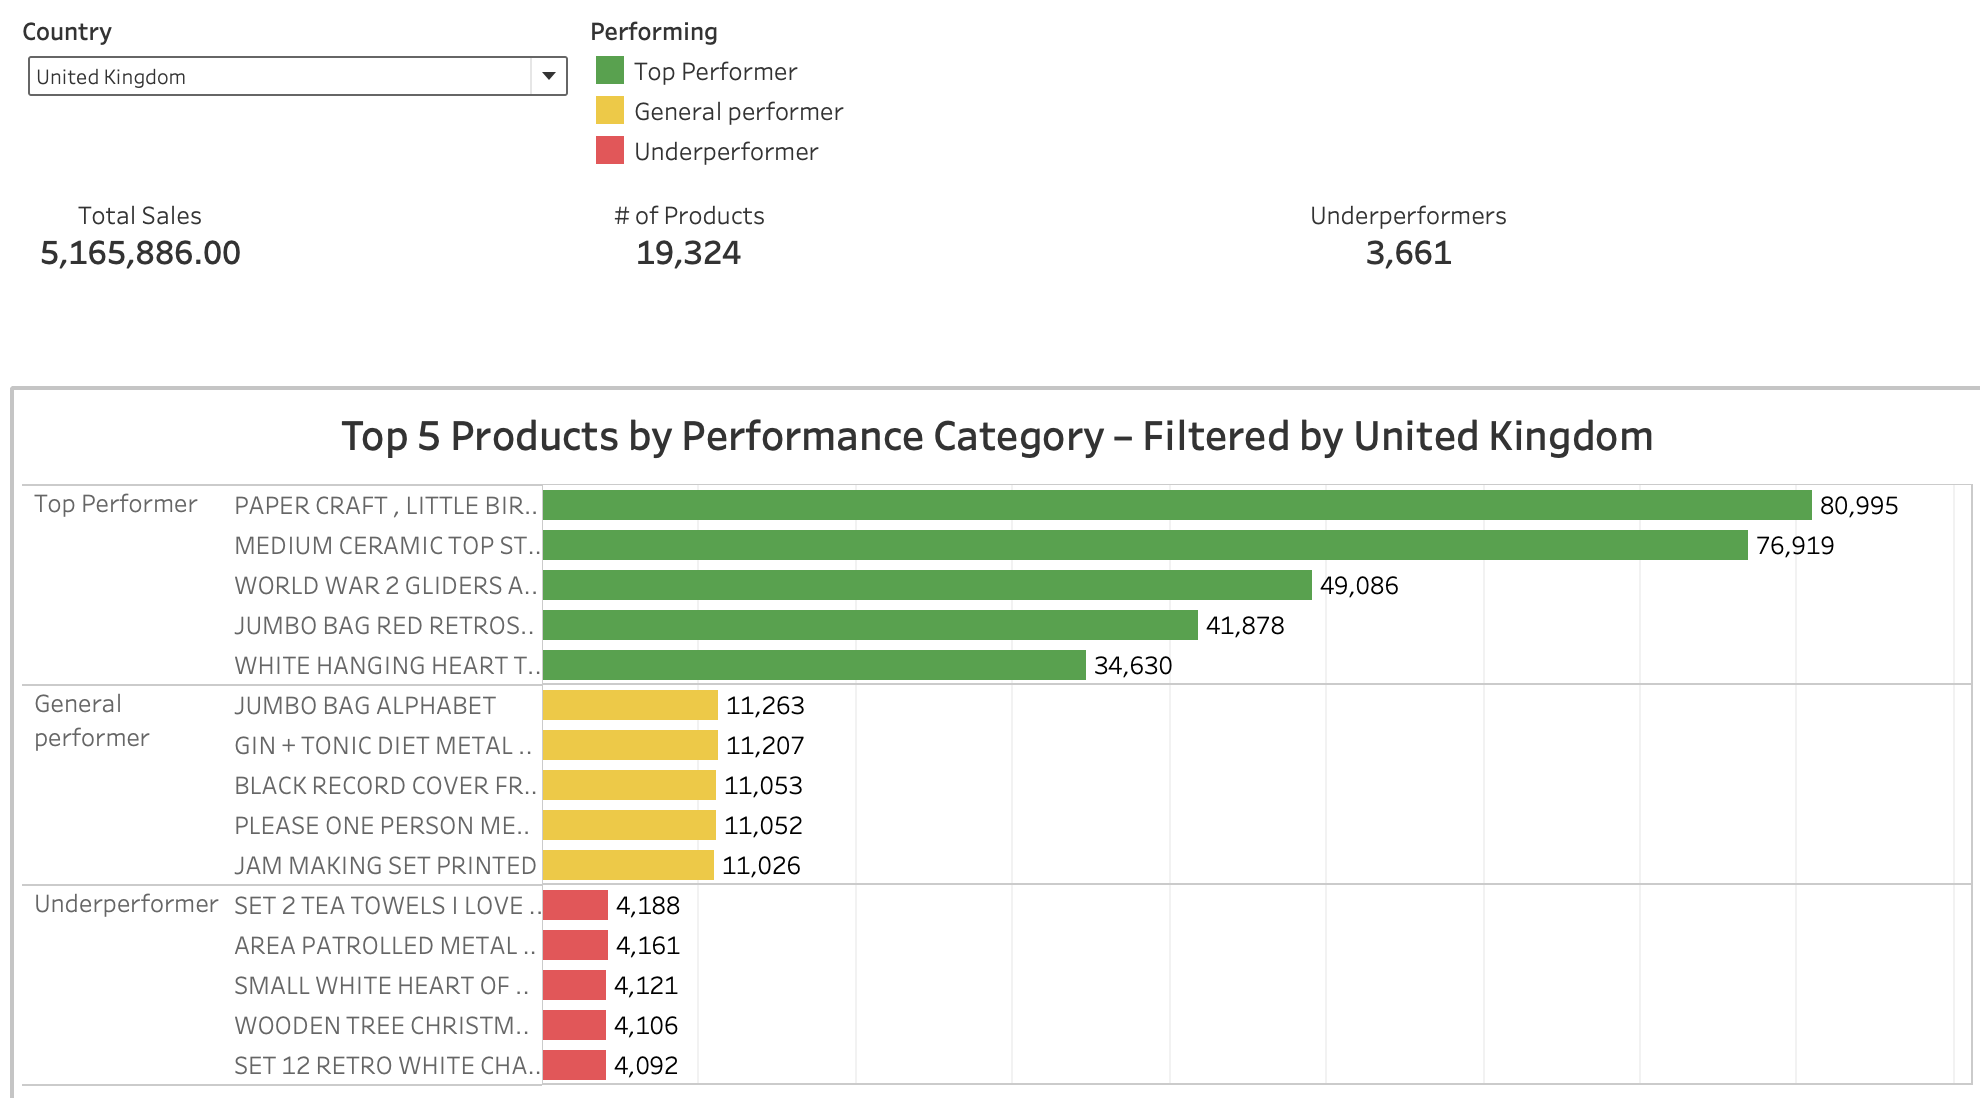

The page's visual inventory and layout, read from the dashboard file:
{"tool":"tableau","page":{"name":"Dashboard 1","canvas":[1000,800],"ordinal":0},"visuals":[{"type":"filter","title":"Top performer","param":"[federated.1g3ey7x0q8dh7b16m36991vpmqvr].[none:Country:nk]","box":[8,8,284,56]},{"type":"legend","title":"Top performer","param":"[federated.1g3ey7x0q8dh7b16m36991vpmqvr].[none:Performing:nk]","box":[292,8,700,92]},{"type":"worksheet","title":"KPI - Total Sales","mark":"Automatic","box":[8,100,284,100]},{"type":"worksheet","title":"KPI - # Products","mark":"Automatic","box":[292,100,350,100]},{"type":"worksheet","title":"KPI - Underperformers","mark":"Automatic","box":[642,100,350,100]},{"type":"worksheet","title":"Top performer","mark":"Bar","rows":["Performing","Description"],"cols":["Quantity"],"box":[8,200,984,592]}]}

Visuals, with their boxes on the page's 1000x800 design canvas (x1, y1, x2, y2). These are canvas units, not pixel positions in the 1980x1098 screenshot, which may show the page scaled, cropped or inside an application window:
"Top performer" filter: l=8, t=8, r=292, b=64
"Top performer" legend: l=292, t=8, r=992, b=100
"KPI - Total Sales" worksheet: l=8, t=100, r=292, b=200
"KPI - # Products" worksheet: l=292, t=100, r=642, b=200
"KPI - Underperformers" worksheet: l=642, t=100, r=992, b=200
"Top performer" worksheet (Bar marks): l=8, t=200, r=992, b=792
